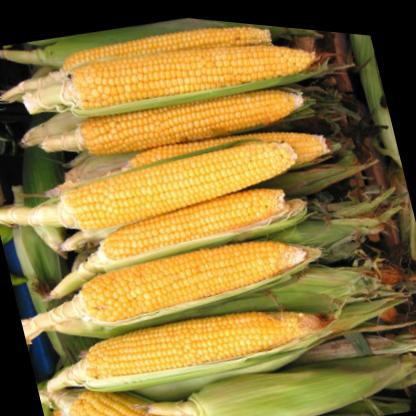corn: (60, 198, 331, 351), (48, 107, 308, 252), (52, 4, 328, 139), (64, 274, 330, 413), (63, 55, 310, 180), (84, 156, 304, 281), (53, 345, 251, 416)
